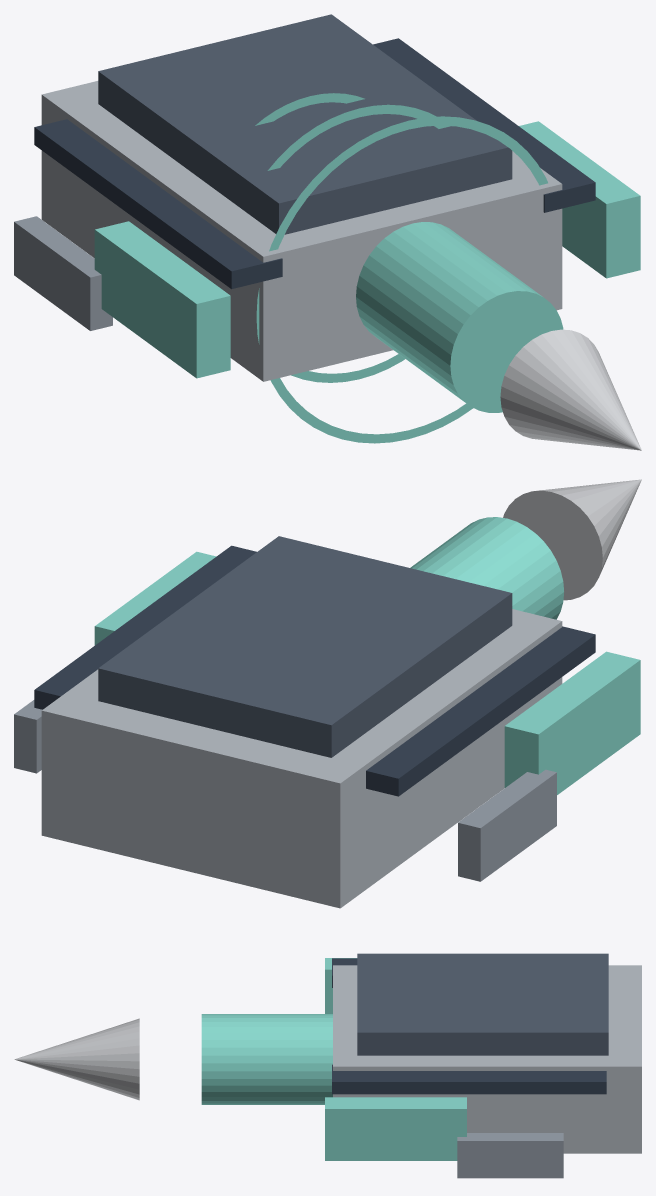
The model's file is arc-1.glb.
3 views of the same model, one above another, from view 1: azimuth 30°, elevation 25°; view 2: azimuth 150°, elevation 25°; view 3: azimuth 270°, elevation 25° (orthographic). The views are drawn at different scales.
Parts seen in each view (by area): view 1: part001, part000, part002, part005, part003, part004, part008, part006, part007, part013, part012, part011; view 2: part000, part001, part005, part004, part002, part003, part006, part007, part008, part009; view 3: part001, part000, part002, part008, part007, part003, part009, part005.
Part boxes in pixels (bbox=[...]): part001: bbox=[98, 14, 512, 234]; part000: bbox=[41, 81, 562, 381]; part002: bbox=[356, 222, 563, 412]; part005: bbox=[94, 221, 230, 378]; part003: bbox=[500, 329, 641, 450]; part004: bbox=[34, 119, 282, 289]; part008: bbox=[519, 121, 640, 278]; part006: bbox=[14, 216, 112, 330]; part007: bbox=[373, 38, 595, 212]; part013: bbox=[256, 116, 547, 443]; part012: bbox=[267, 104, 450, 382]; part011: bbox=[255, 93, 364, 125]; part000: bbox=[41, 609, 562, 908]; part001: bbox=[98, 536, 512, 757]; part005: bbox=[504, 651, 640, 794]; part004: bbox=[366, 626, 595, 796]; part002: bbox=[410, 517, 563, 619]; part003: bbox=[503, 479, 641, 600]; part006: bbox=[458, 769, 556, 881]; part007: bbox=[34, 545, 256, 709]; part008: bbox=[94, 551, 216, 645]; part009: bbox=[14, 700, 42, 773]; part001: bbox=[357, 953, 608, 1055]; part000: bbox=[333, 965, 641, 1153]; part002: bbox=[201, 1014, 332, 1104]; part008: bbox=[325, 1097, 466, 1160]; part007: bbox=[332, 1064, 606, 1094]; part003: bbox=[14, 1018, 139, 1100]; part009: bbox=[457, 1133, 563, 1178]; part005: bbox=[325, 958, 356, 1013].
Size of the model in its own units: 1.64 by 1.07 by 2.75.
